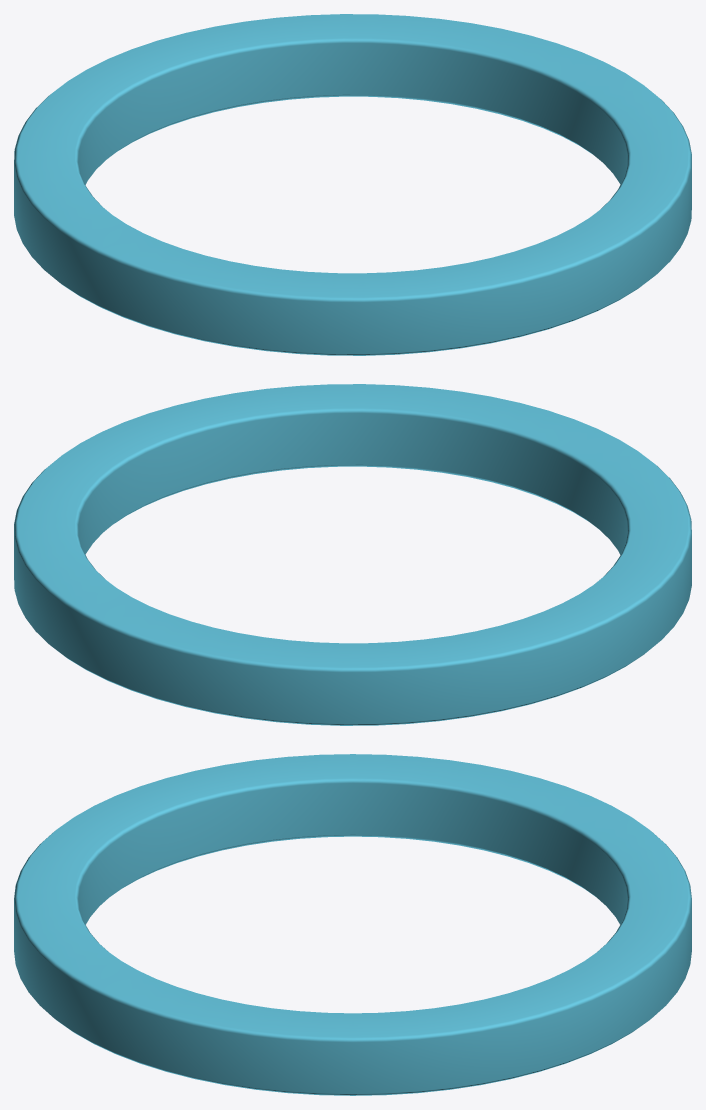
3 renders of one model, top to bottom at view 1: azimuth 30°, elevation 25°; view 2: azimuth 150°, elevation 25°; view 3: azimuth 270°, elevation 25°, orthographic.
Parts seen in each view (by area): view 1: seal_body; view 2: seal_body; view 3: seal_body.
Part boxes in pixels (box(x1,y1,x2,y2)): seal_body: box(14, 14, 691, 355); seal_body: box(14, 384, 691, 725); seal_body: box(14, 754, 691, 1095).
Bounding box in the file's own units: 0.0667 × 0.00635 × 0.0667.
